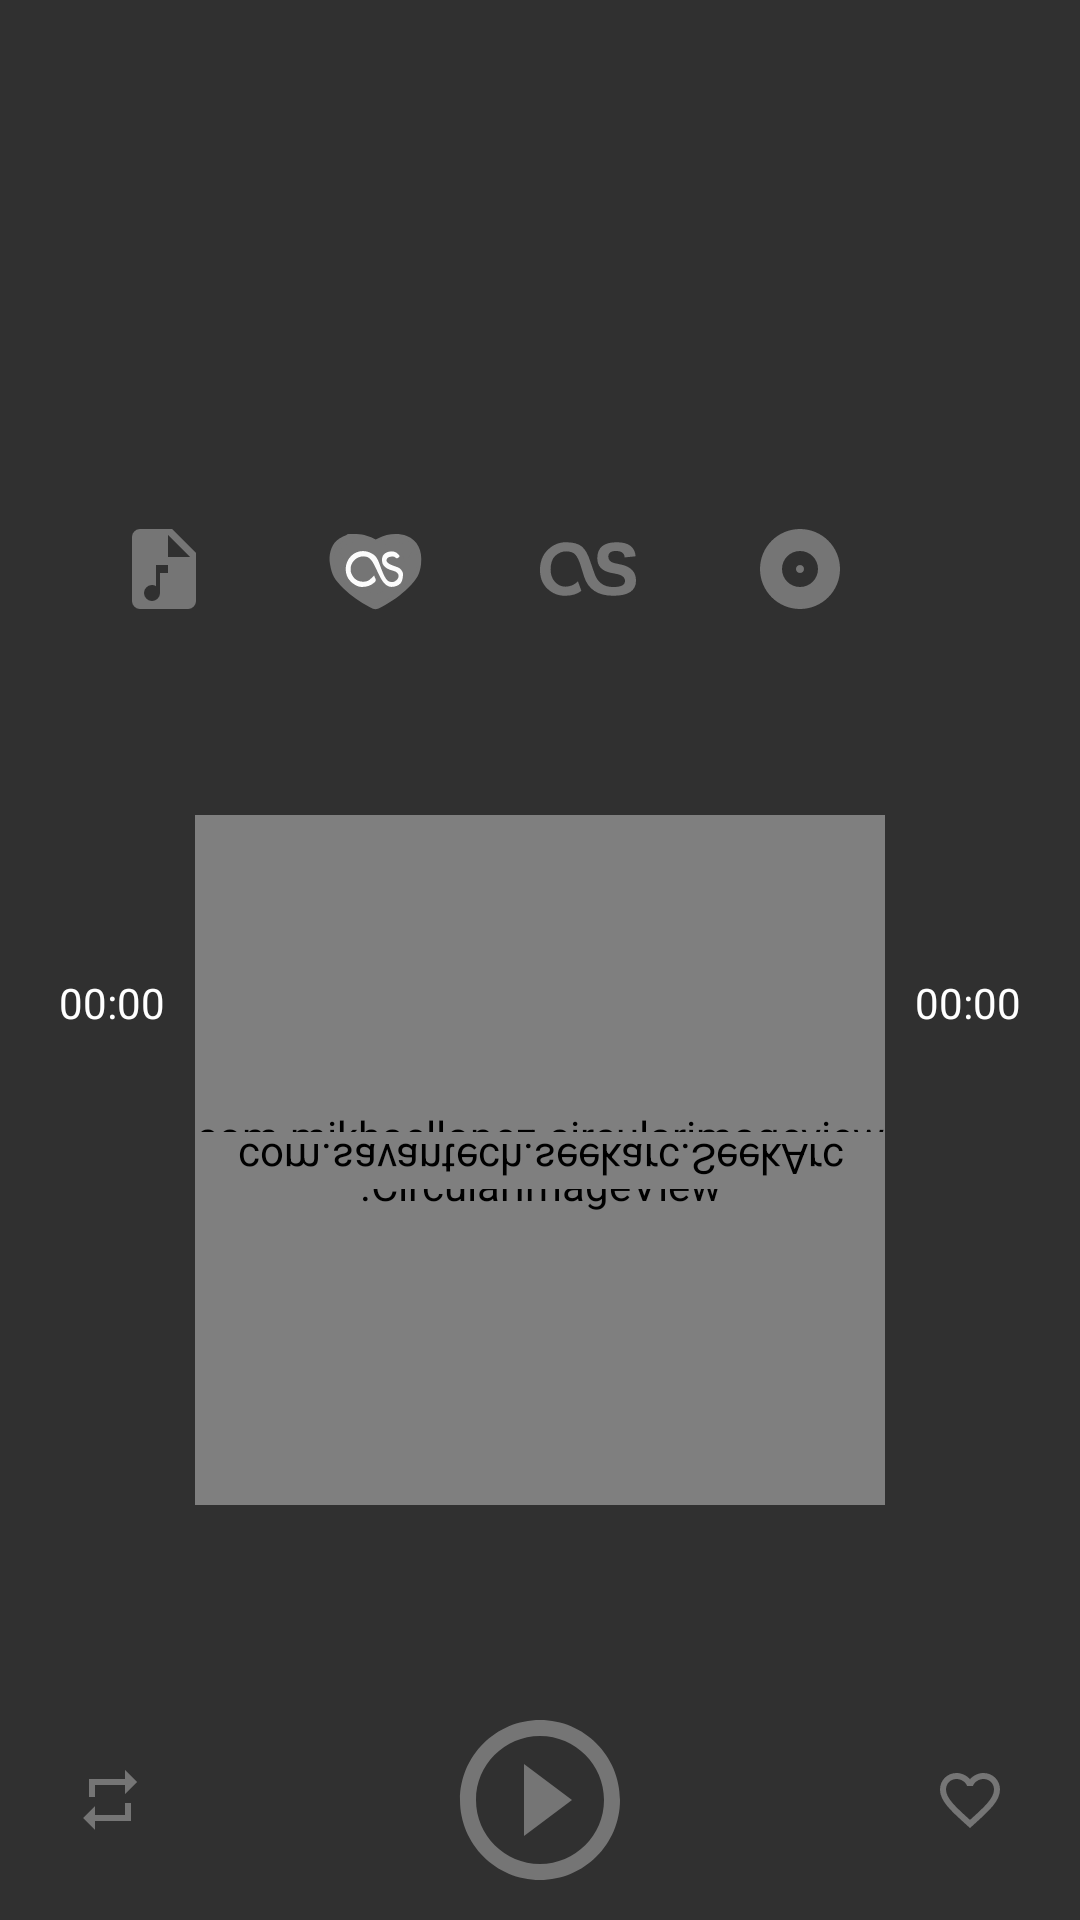

Icon click points for this 1080 x 1920 phone screenshot, format [x,y]:
favorite border: [970,1800]
Play: [540,1800]
repeat: [110,1800]
